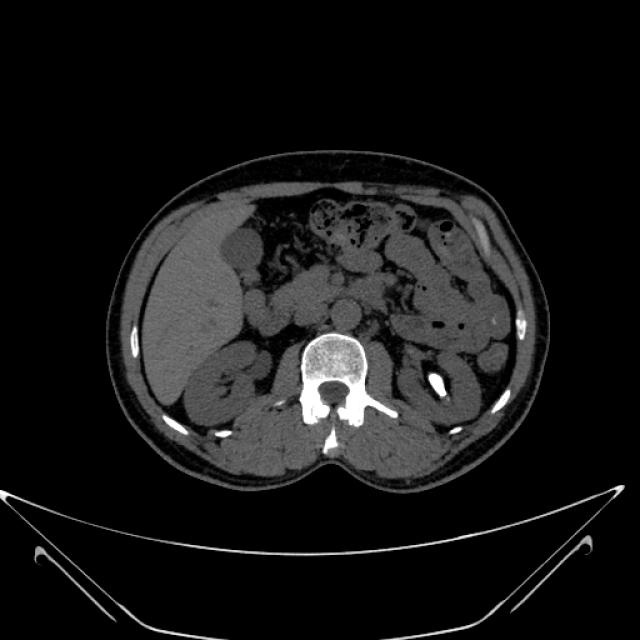kidneystone: (429, 372, 445, 398)
